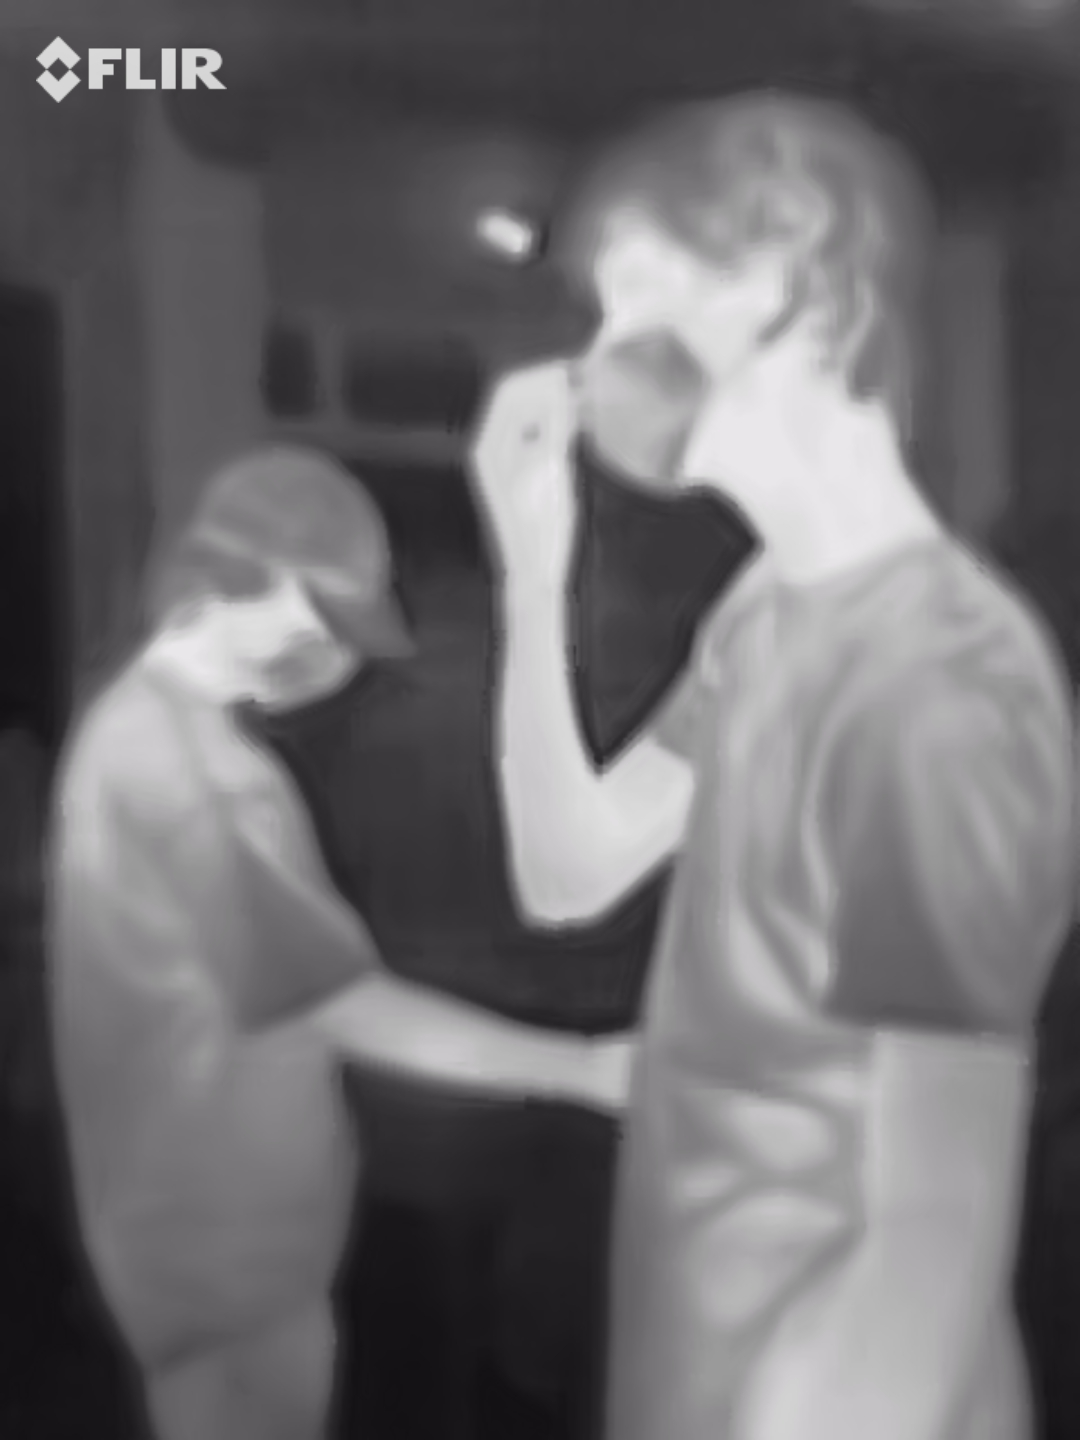head: (569, 87, 932, 504), (153, 433, 397, 725)
